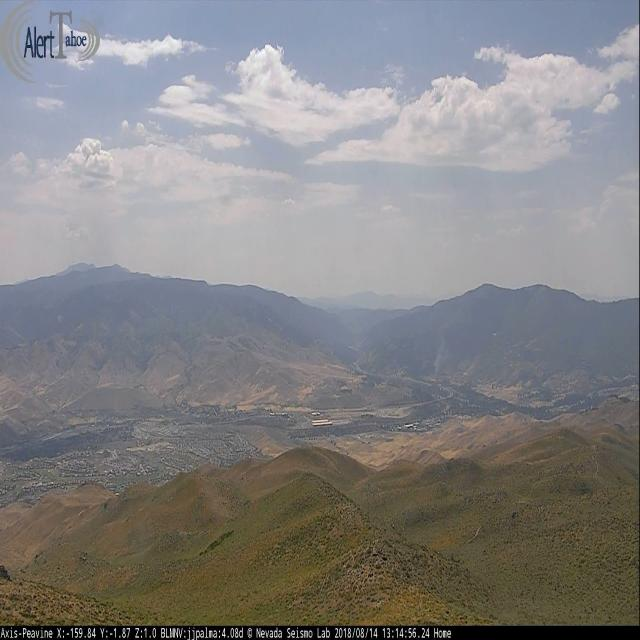smoke: (434, 338, 446, 383)
